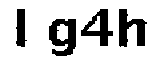4: (79, 7, 115, 48)
g: (43, 15, 80, 59)
h: (116, 3, 149, 53)
l: (12, 6, 35, 52)
